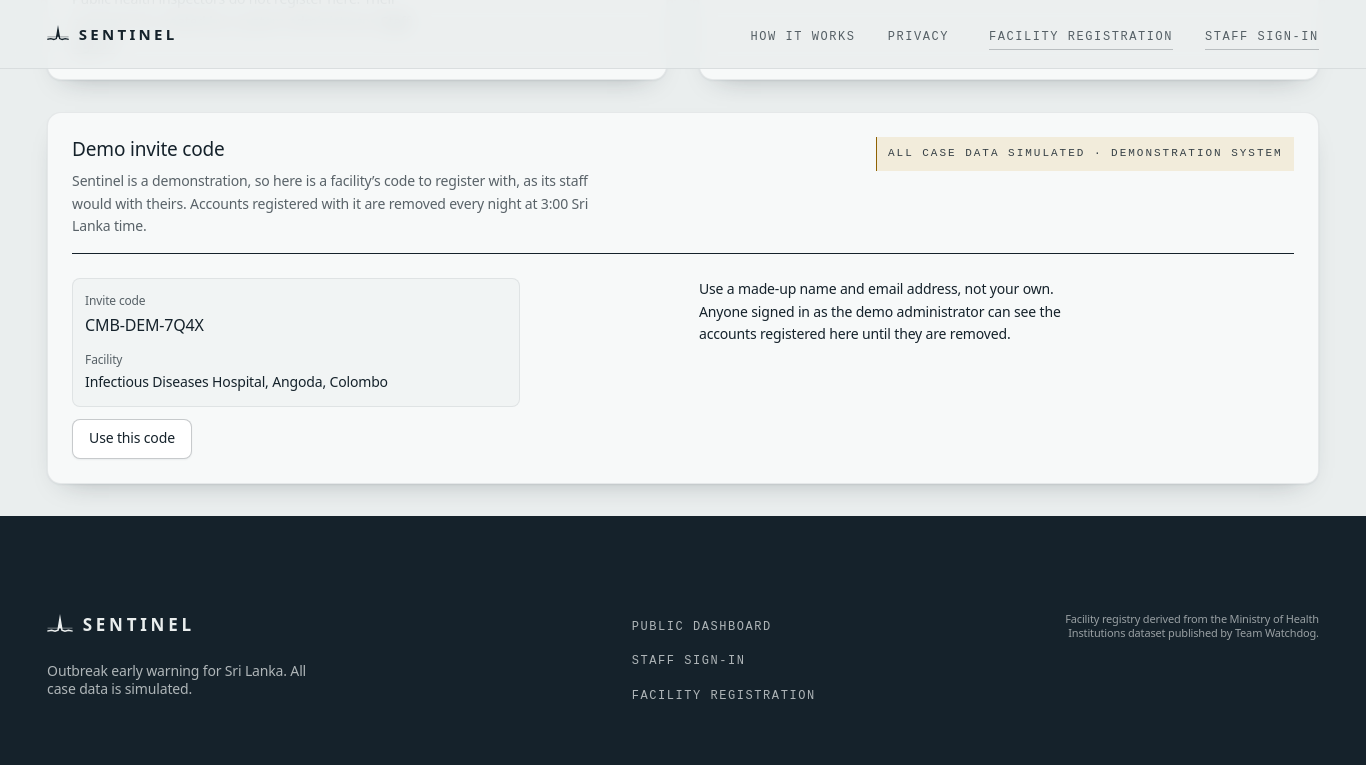
Test case: RegisterPage in demo mode › fills in the published code, which then registers as any facility code does
The width and height of the screenshot is (1366, 765).
(page scrolled)
Expected: the element "Demo invite code" shows "CMB-DEM-7Q4X", x1=85 y1=314 x2=204 y2=336
Expected: the element "Demo invite code" shows "made-up name and email address", x1=699 y1=279 x2=1061 y2=343
Click the button "Use this code".
click(132, 439)  # box x1=72 y1=419 x2=192 y2=459
(page scrolled)
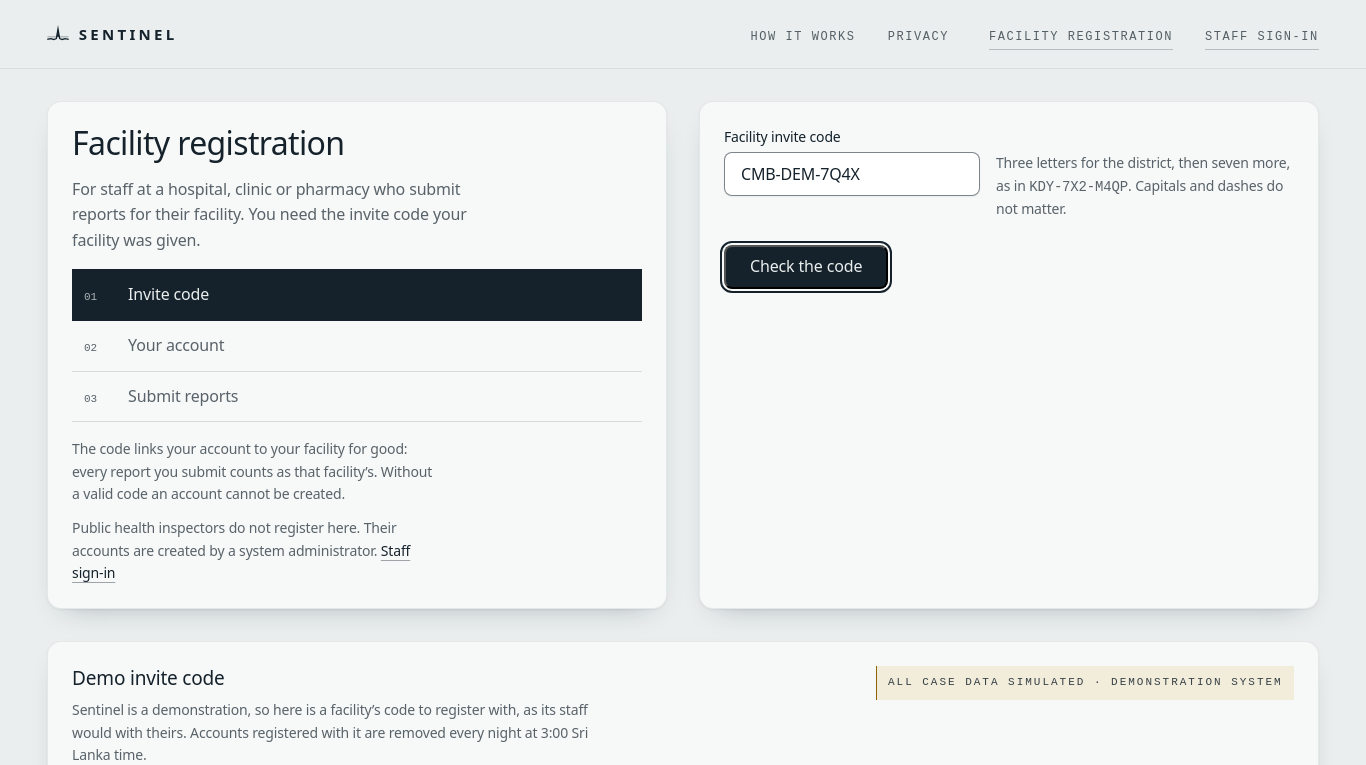
Expected: the field labelled "Facility invite code" holds "CMB-DEM-7Q4X", x1=724 y1=152 x2=980 y2=196
Click the button "Check the code".
click(806, 267)  # box x1=724 y1=245 x2=888 y2=289
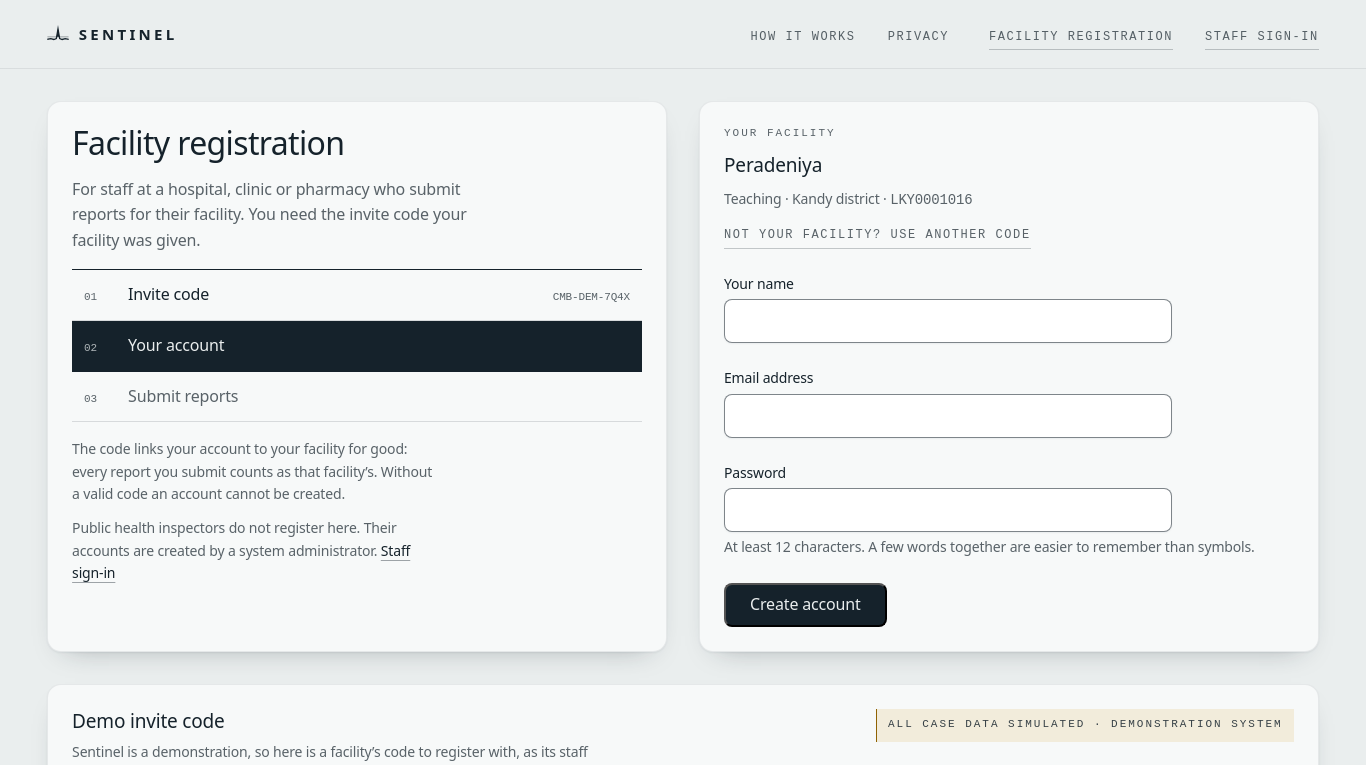
Expected: the text "Peradeniya" is shown, x1=724 y1=152 x2=822 y2=178
